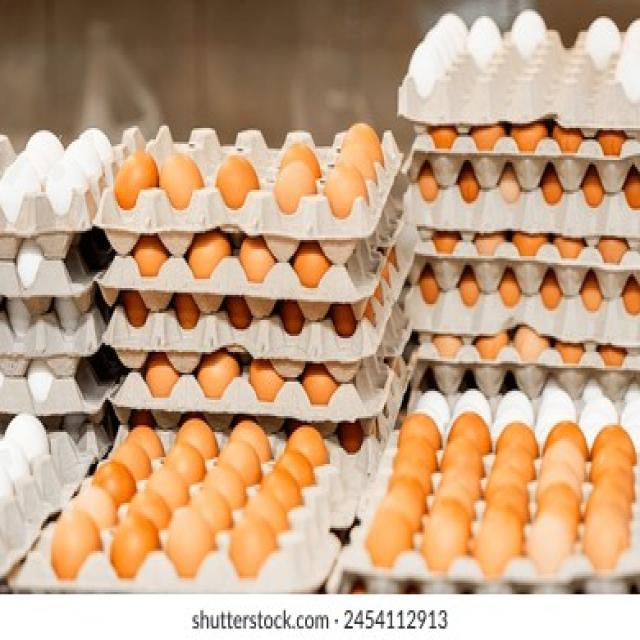Brown Egg: (163, 514, 219, 582), (207, 144, 258, 216), (112, 144, 161, 214), (472, 509, 526, 572), (106, 520, 166, 576), (159, 139, 203, 214), (363, 506, 415, 568), (46, 514, 98, 576), (172, 408, 228, 460), (270, 158, 320, 216), (68, 484, 122, 536), (421, 509, 468, 567), (250, 467, 303, 518), (227, 524, 277, 578), (196, 465, 255, 510), (328, 162, 367, 226), (578, 150, 616, 215), (192, 352, 242, 400), (229, 238, 277, 288), (110, 436, 160, 483), (130, 234, 178, 280), (240, 493, 286, 540), (244, 352, 284, 406), (340, 137, 376, 196), (225, 419, 278, 459), (291, 423, 333, 473), (164, 440, 213, 480), (191, 239, 242, 277), (90, 456, 134, 498), (128, 492, 173, 533), (143, 356, 183, 401), (219, 443, 266, 481), (294, 242, 334, 285), (300, 358, 334, 408), (276, 447, 316, 489), (124, 420, 166, 459), (191, 496, 233, 534), (146, 469, 193, 500)
